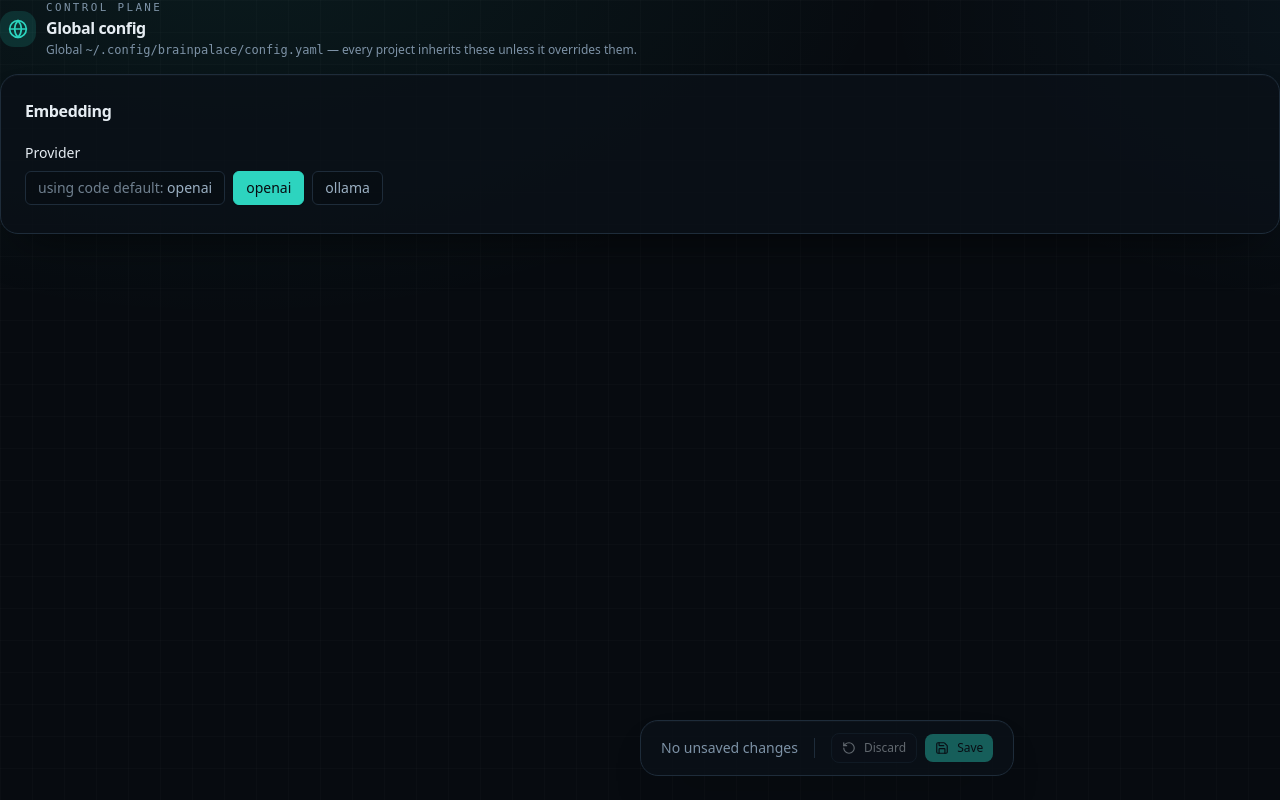
GlobalConfig tab (Server page) › renders a 422 validation error inline
Step 1. Click the radio button with test id "enum-embedding.provider-ollama" → {"x": 348, "y": 188}, box [312,171,383,205]
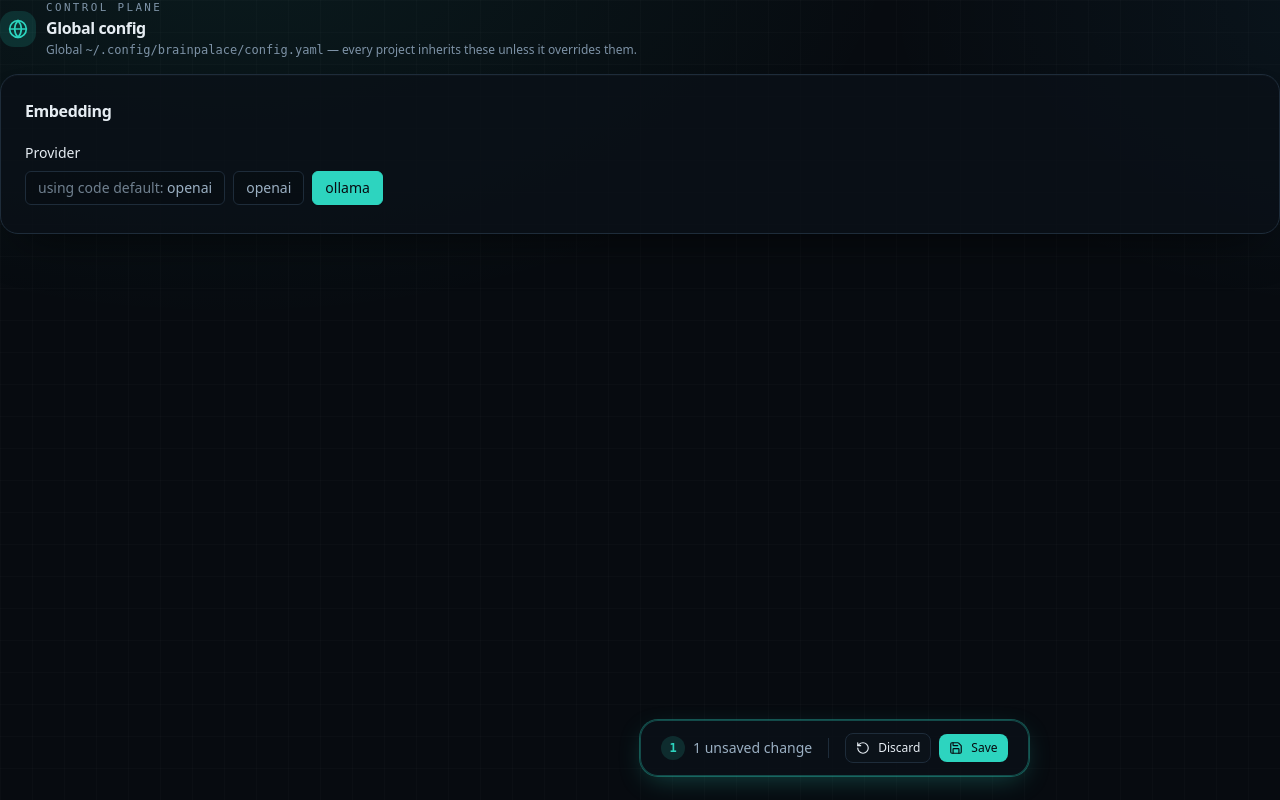
Step 2. Click the button with test id "btn-save" → {"x": 974, "y": 748}, box [939,734,1008,762]
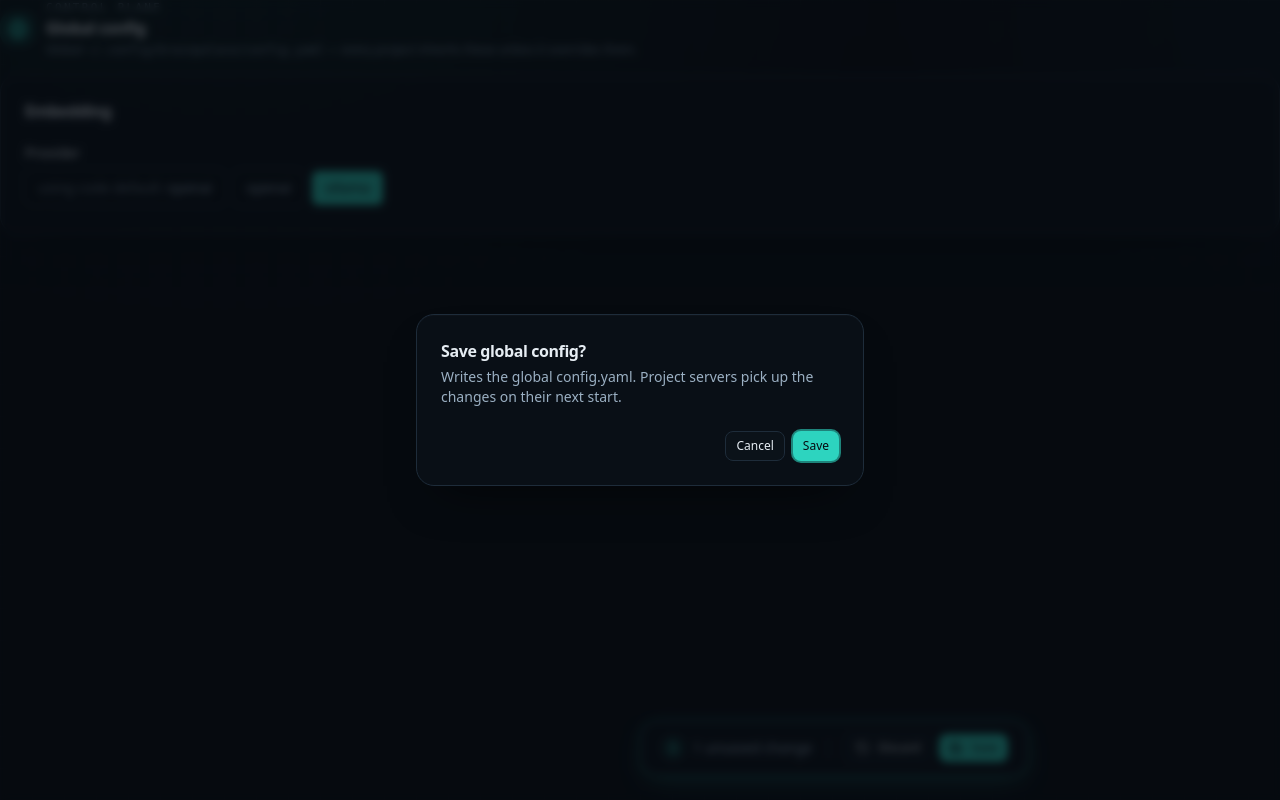
Step 3. Click the button with test id "btn-confirm" → {"x": 816, "y": 446}, box [793,431,839,461]
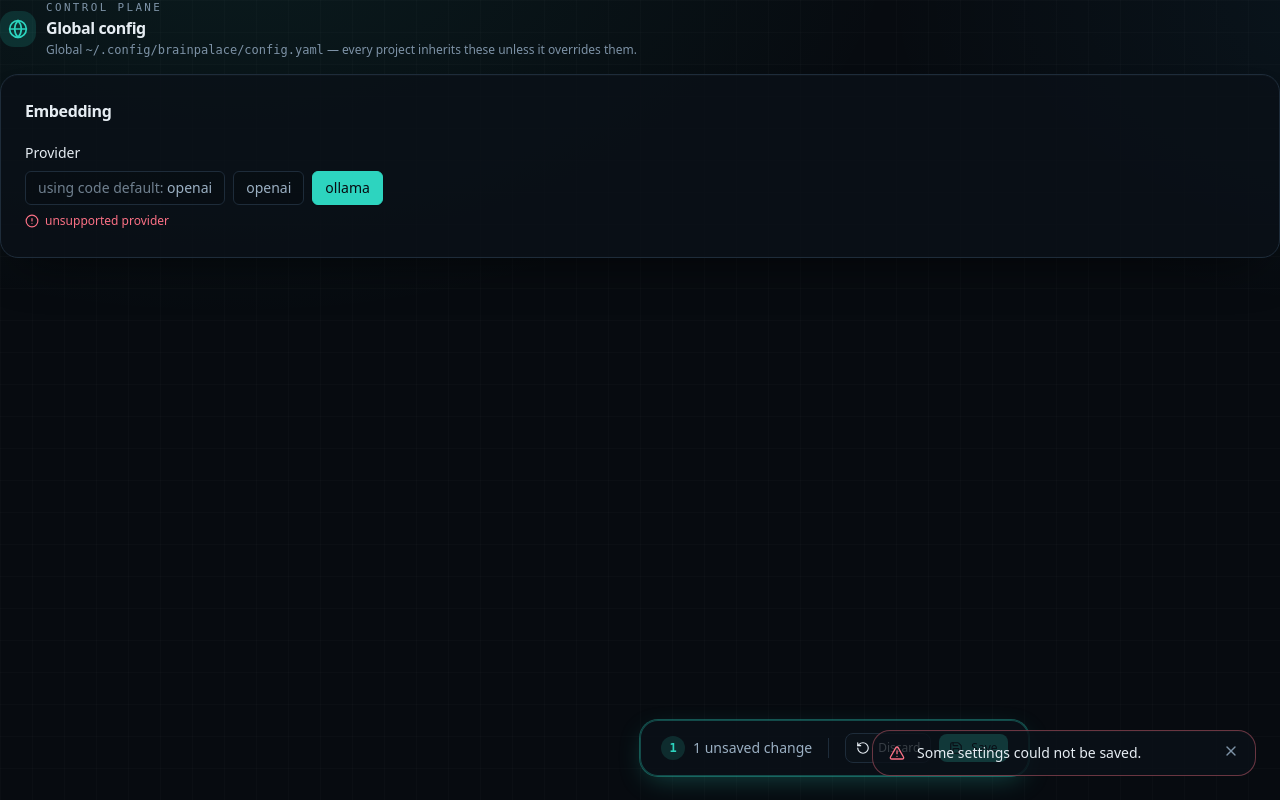
Expected: the message with test id "field-error-embedding.provider" reads "unsupported provider", [45,212,169,229]
